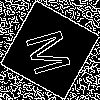M: (25, 25, 81, 78)
